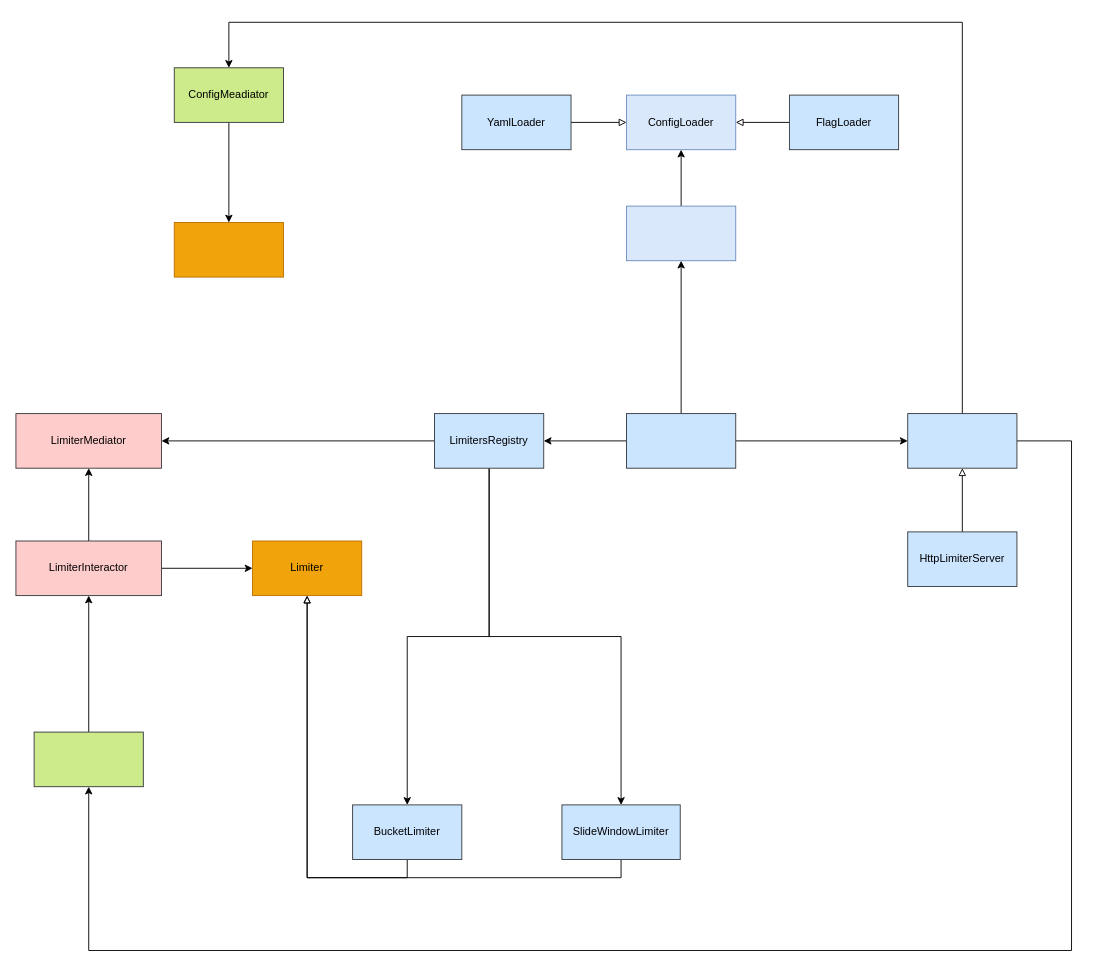
Some shapes in this 1095 by 974 pixel diagram are drawn without their labels. Each missing label, with the box of its shape:
App: (626, 413, 736, 468)
Config: (173, 222, 283, 277)
ConfigManager: (626, 205, 736, 261)
LimiterController: (33, 731, 143, 787)
LimiterServer: (907, 413, 1017, 468)
